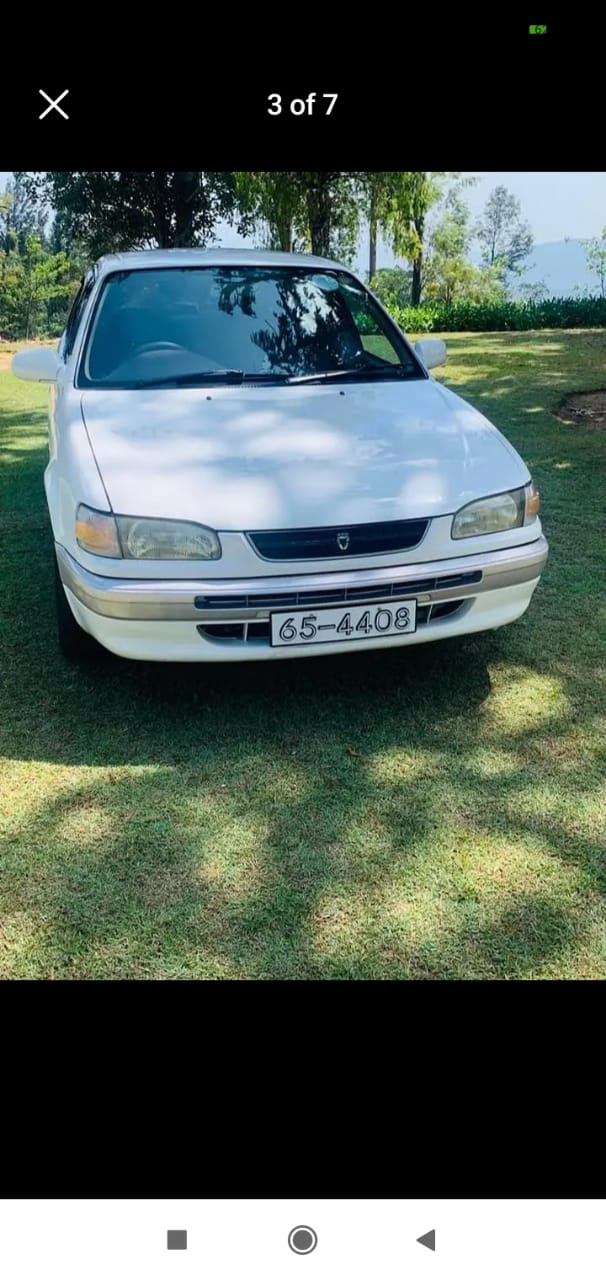number_plate: (274, 599, 418, 649)
